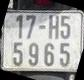-: (39, 25, 46, 30)
1: (16, 14, 23, 40)
5: (12, 42, 24, 66), (59, 43, 70, 65), (61, 15, 71, 39)
6: (43, 43, 55, 67)
7: (25, 14, 37, 38)
9: (28, 42, 39, 67)
H: (48, 15, 59, 40)
